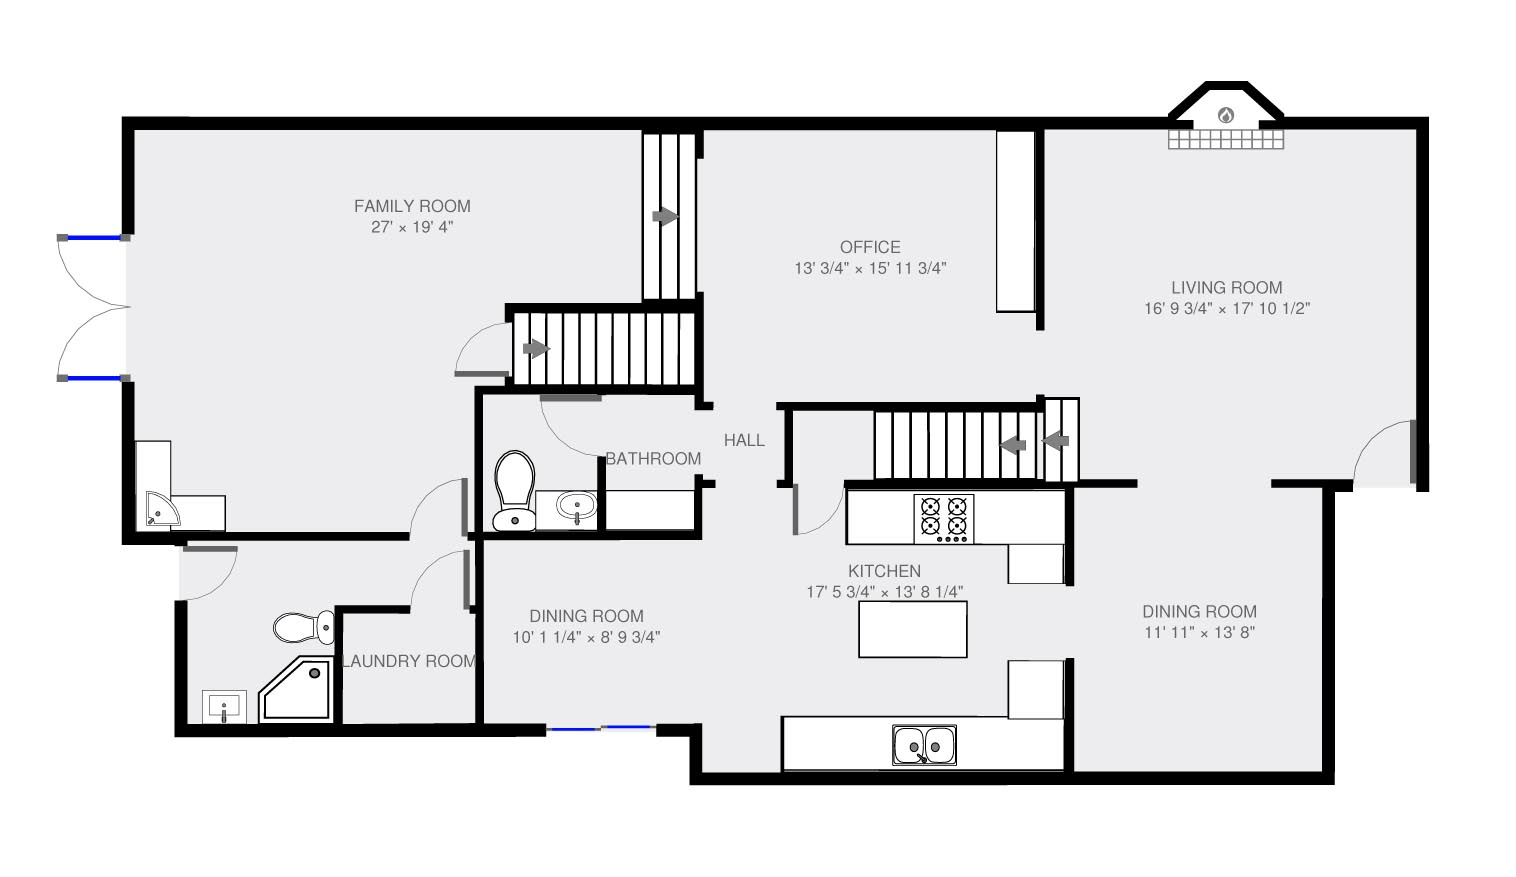door: (24, 210, 115, 425), (405, 468, 471, 525), (190, 544, 256, 601), (1348, 417, 1414, 474), (775, 494, 840, 551), (531, 394, 597, 451), (434, 322, 500, 379), (403, 539, 469, 596)
room: (1026, 71, 1437, 500), (115, 108, 492, 551), (683, 474, 1084, 793), (1060, 474, 1341, 796), (468, 381, 718, 546), (158, 587, 347, 746), (330, 596, 488, 746)
